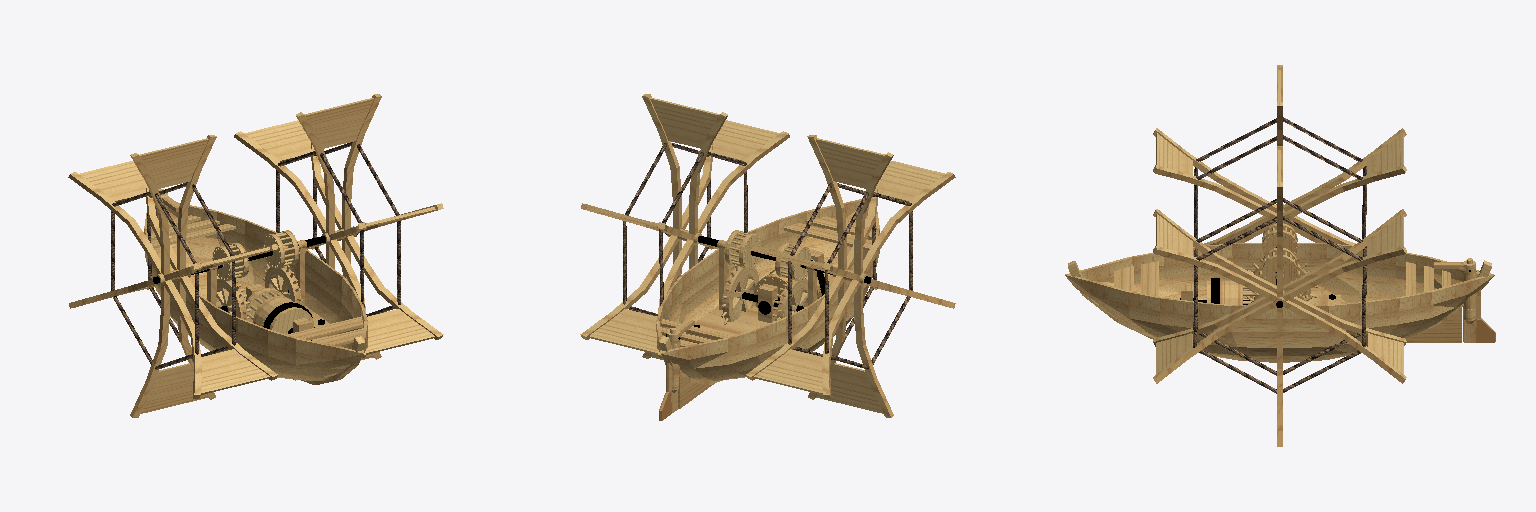
3 renders of one model, left to right at view 1: azimuth 30°, elevation 25°; view 2: azimuth 150°, elevation 25°; view 3: azimuth 270°, elevation 25°, orthographic.
Parts seen in each view (by area): view 1: Boat1 hulk polySurface4, Boat1 paddle_1 polySurface287, Boat1 paddle_2 polySurface317, Boat1 paddle_2 polySurface329, Boat1 paddle_1 polySurface299, Boat1 paddle_2 polySurface320, Boat1 paddle_2 polySurface332, Boat1 paddle_1 polySurface302, Boat1 paddle_2 polySurface318, Boat1 paddle_2 polySurface330, Boat1 paddle_1 polySurface301, Boat1 polySurface285 paddle_1 (+13 smaller); view 2: Boat1 hulk polySurface4, Boat1 paddle_1 polySurface287, Boat1 paddle_2 polySurface317, Boat1 paddle_2 polySurface326, Boat1 paddle_1 polySurface296, Boat1 paddle_2 polySurface320, Boat1 paddle_1 polySurface293, Boat1 paddle_2 polySurface323, Boat1 Gear_4 polySurface461, Boat1 paddle_2 polySurface318, Boat1 paddle_1 polySurface292, Boat1 paddle_2 polySurface321 (+14 smaller); view 3: Boat1 hulk polySurface4, Boat1 paddle_1 polySurface294, Boat1 paddle_1 polySurface297, Boat1 paddle_1 polySurface291, Boat1 paddle_1 polySurface300, Boat1 paddle_2 polySurface322, Boat1 paddle_2 polySurface331, Boat1 hulk pCube6, Boat1 paddle_1 polySurface301, Boat1 paddle_1 polySurface292, Boat1 paddle_1 polySurface302, Boat1 paddle_2 polySurface332 (+14 smaller).
Boxes of the visible parts, x1,y1,x2,y2 form: Boat1 hulk polySurface4: [144, 202, 367, 380]; Boat1 paddle_1 polySurface287: [304, 98, 373, 148]; Boat1 paddle_2 polySurface317: [139, 138, 208, 188]; Boat1 paddle_2 polySurface329: [201, 349, 269, 394]; Boat1 paddle_1 polySurface299: [366, 309, 434, 354]; Boat1 paddle_2 polySurface320: [141, 363, 208, 413]; Boat1 paddle_2 polySurface332: [79, 161, 145, 201]; Boat1 paddle_1 polySurface302: [244, 120, 311, 161]; Boat1 paddle_2 polySurface318: [130, 284, 169, 417]; Boat1 paddle_2 polySurface330: [68, 172, 160, 273]; Boat1 paddle_1 polySurface301: [234, 131, 325, 233]; Boat1 polySurface285 paddle_1: [342, 94, 381, 229]; Boat1 hulk polySurface4: [656, 199, 879, 380]; Boat1 paddle_1 polySurface287: [650, 98, 719, 148]; Boat1 paddle_2 polySurface317: [816, 138, 884, 188]; Boat1 paddle_2 polySurface326: [754, 349, 822, 394]; Boat1 paddle_1 polySurface296: [589, 309, 657, 354]; Boat1 paddle_2 polySurface320: [816, 363, 882, 413]; Boat1 paddle_1 polySurface293: [712, 120, 779, 161]; Boat1 paddle_2 polySurface323: [878, 161, 944, 201]; Boat1 Gear_4 polySurface461: [722, 266, 758, 321]; Boat1 paddle_2 polySurface318: [854, 284, 893, 417]; Boat1 paddle_1 polySurface292: [698, 131, 789, 233]; Boat1 paddle_2 polySurface321: [863, 172, 955, 273]; Boat1 hulk polySurface4: [1065, 243, 1494, 362]; Boat1 paddle_1 polySurface294: [1284, 300, 1406, 383]; Boat1 paddle_1 polySurface297: [1153, 301, 1274, 383]; Boat1 paddle_1 polySurface291: [1153, 246, 1276, 301]; Boat1 paddle_1 polySurface300: [1283, 246, 1406, 301]; Boat1 paddle_2 polySurface322: [1153, 165, 1276, 218]; Boat1 paddle_2 polySurface331: [1283, 165, 1406, 218]; Boat1 hulk pCube6: [1406, 308, 1461, 342]; Boat1 paddle_1 polySurface301: [1283, 209, 1406, 292]; Boat1 paddle_1 polySurface292: [1153, 209, 1276, 292]; Boat1 paddle_1 polySurface302: [1367, 214, 1403, 255]; Boat1 paddle_2 polySurface332: [1367, 133, 1403, 174].
Bounding box in the file's own units: 23.26 × 23.44 × 34.84.
Materials: 4 (2 with a texture image).